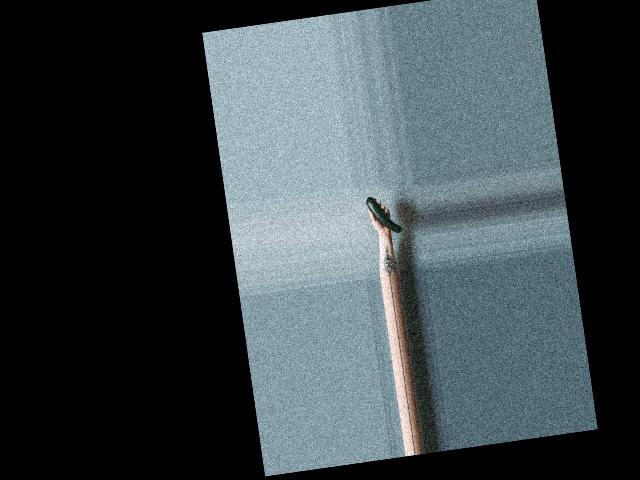cucumber: (366, 193, 402, 236)
